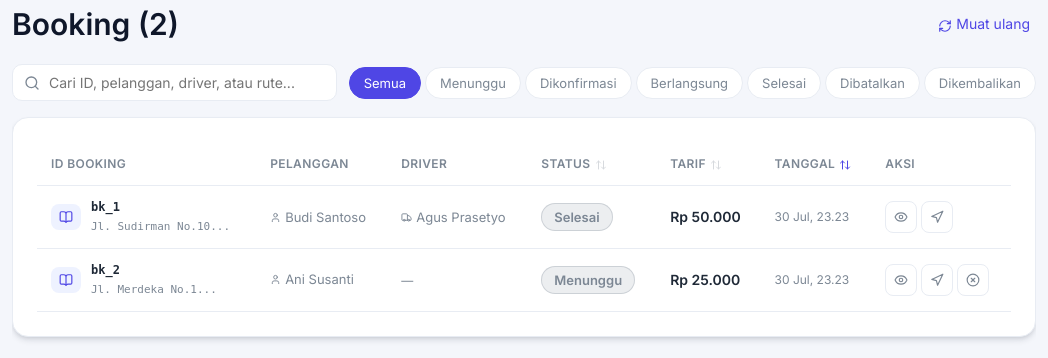
Test: Bookings › filters bookings by status
Expected: the text "Budi Santoso" is shown, [270,207,373,228]
Step 1. Click the button "Menunggu" → (473, 82), box [425,66,521,98]
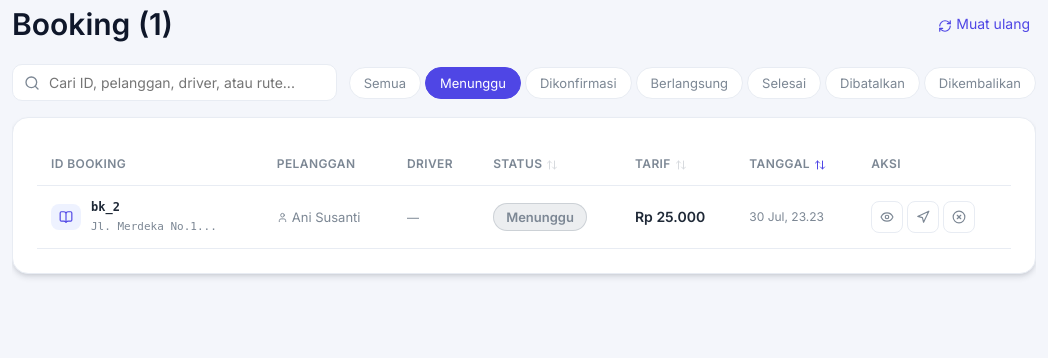
Expected: the text "Ani Susanti" is shown, [277,209,360,225]
Result: the text "Budi Santoso" is gone
